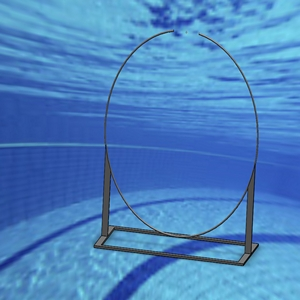circle: (97, 28, 259, 268)
